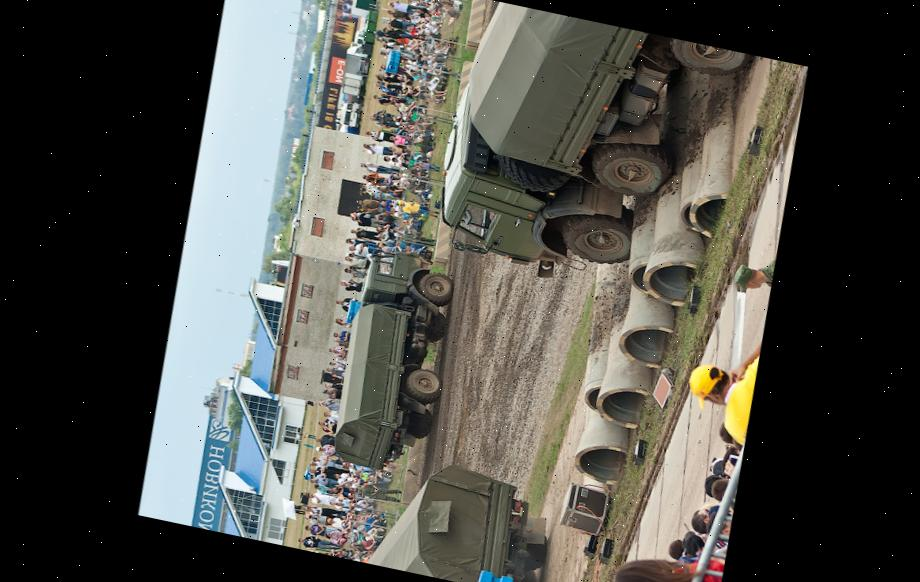truck: (410, 0, 792, 341), (313, 240, 475, 486), (317, 441, 568, 582)
